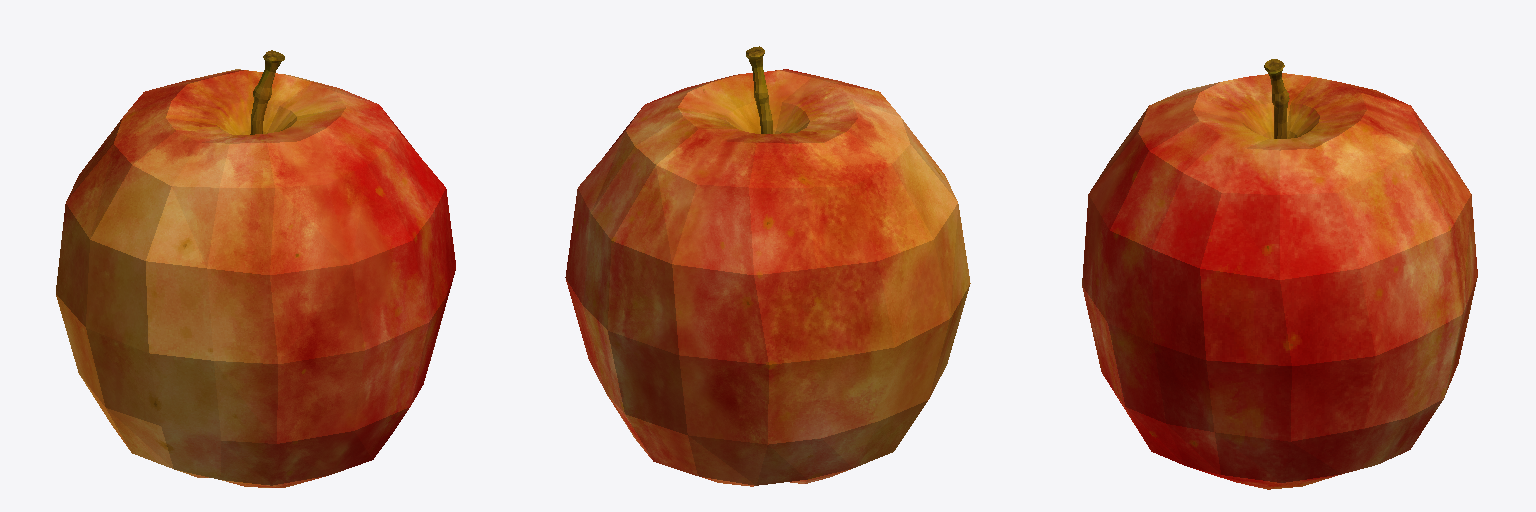
3 renders of one model, left to right at view 1: azimuth 30°, elevation 25°; view 2: azimuth 150°, elevation 25°; view 3: azimuth 270°, elevation 25°, orthographic.
Visible parts, largest first — view 1: Apple_Circle; view 2: Apple_Circle; view 3: Apple_Circle.
Boxes of the visible parts, x1=… form: Apple_Circle: x1=56, y1=50, x2=455, y2=487; Apple_Circle: x1=565, y1=46, x2=970, y2=486; Apple_Circle: x1=1082, y1=59, x2=1477, y2=489.
Size of the model in its own units: 1.98 by 2.16 by 1.93.
Materials: 1 (1 with a texture image).